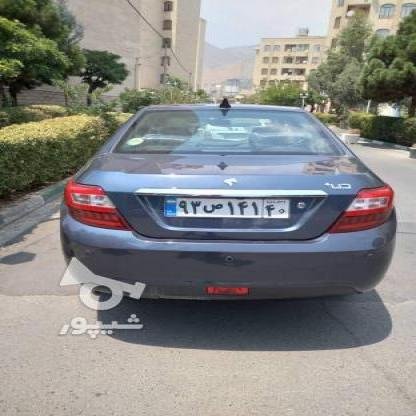licence: (163, 196, 288, 215)
